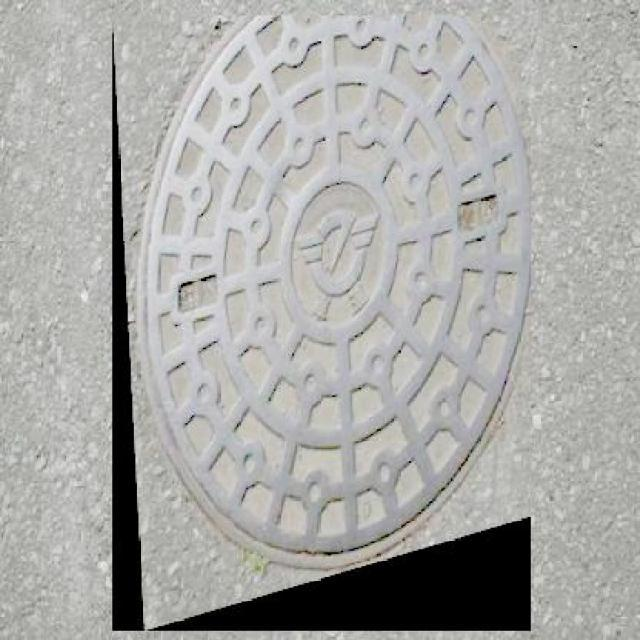Manhole: (112, 16, 531, 630)
